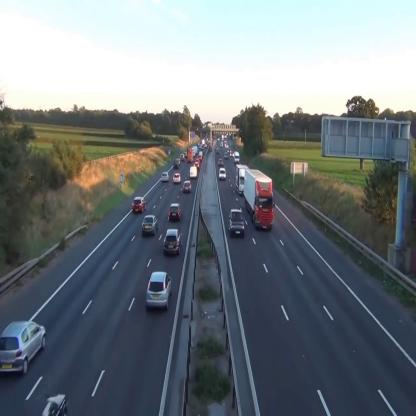car: (0, 320, 46, 376), (146, 270, 172, 312), (163, 228, 182, 256), (229, 209, 244, 238), (142, 216, 158, 235), (132, 197, 146, 214), (168, 203, 182, 219), (161, 172, 170, 182), (184, 180, 192, 191), (173, 173, 181, 183), (190, 166, 197, 177), (219, 168, 226, 179)
lorry: (244, 168, 275, 232), (235, 164, 249, 194)
